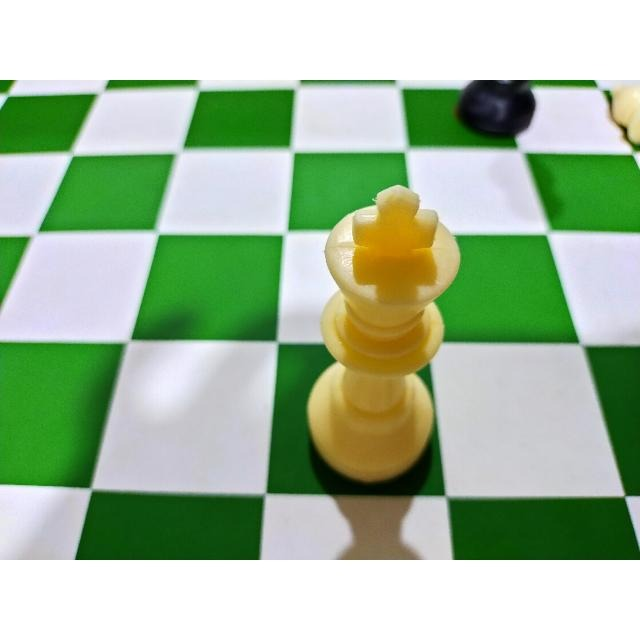white-king: (299, 177, 464, 481)
